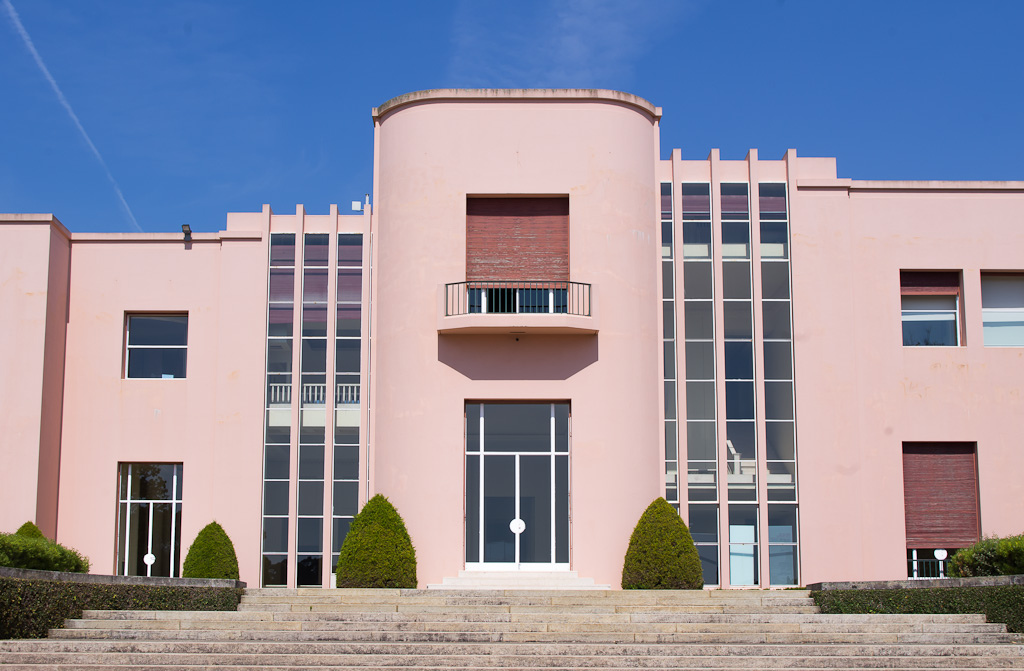serralves: (0, 86, 1023, 588)
